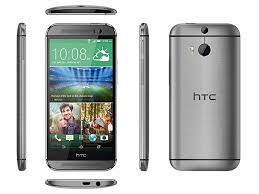htc: (42, 21, 120, 173), (165, 20, 243, 172)
